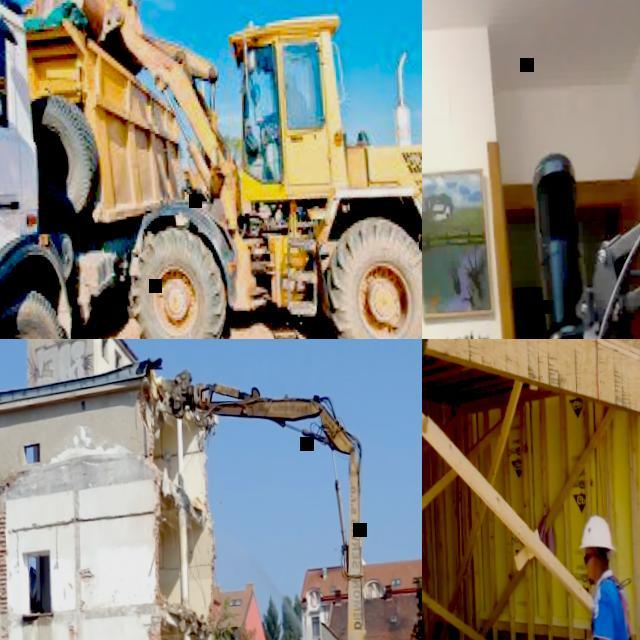Helmet: (574, 518, 627, 568)
Robbery: (565, 514, 640, 640)
